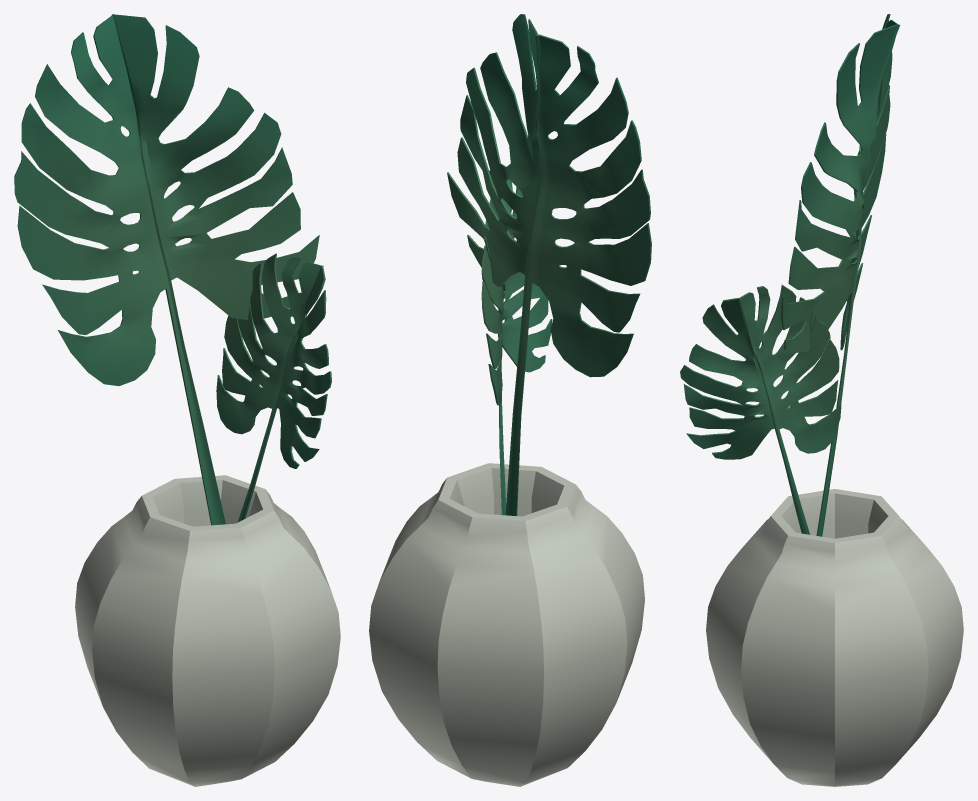
The model's file is Big rastenie.fbx.
3 views of the same model, side by side, from view 1: azimuth 30°, elevation 25°; view 2: azimuth 150°, elevation 25°; view 3: azimuth 270°, elevation 25° (orthographic). The views are drawn at different scales.
Parts seen in each view (by area): view 1: Big rastenie; view 2: Big rastenie; view 3: Big rastenie.
Boxes of the visible parts, box(x1,y1,x2,y2) form: Big rastenie: box(14, 14, 340, 786); Big rastenie: box(369, 14, 651, 786); Big rastenie: box(680, 14, 963, 786).
Bounding box in the file's own units: 0.4473 × 0.405 × 1.13.
